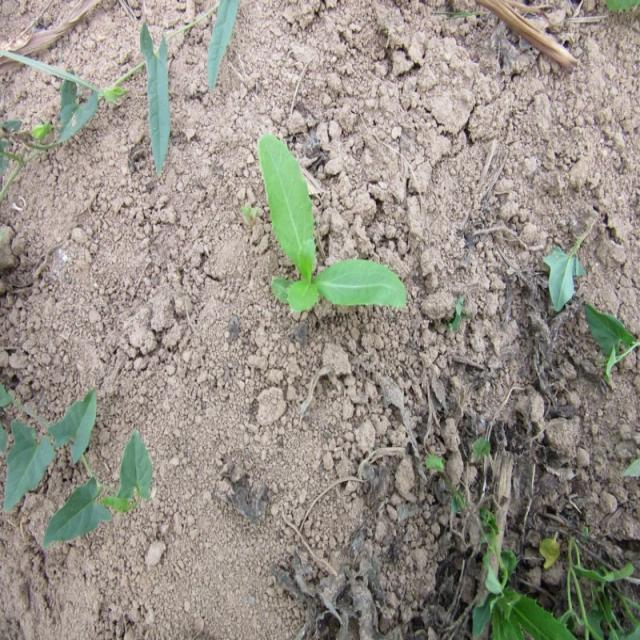cs: (252, 127, 412, 338)
